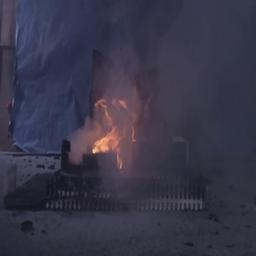fire: (88, 91, 132, 157)
